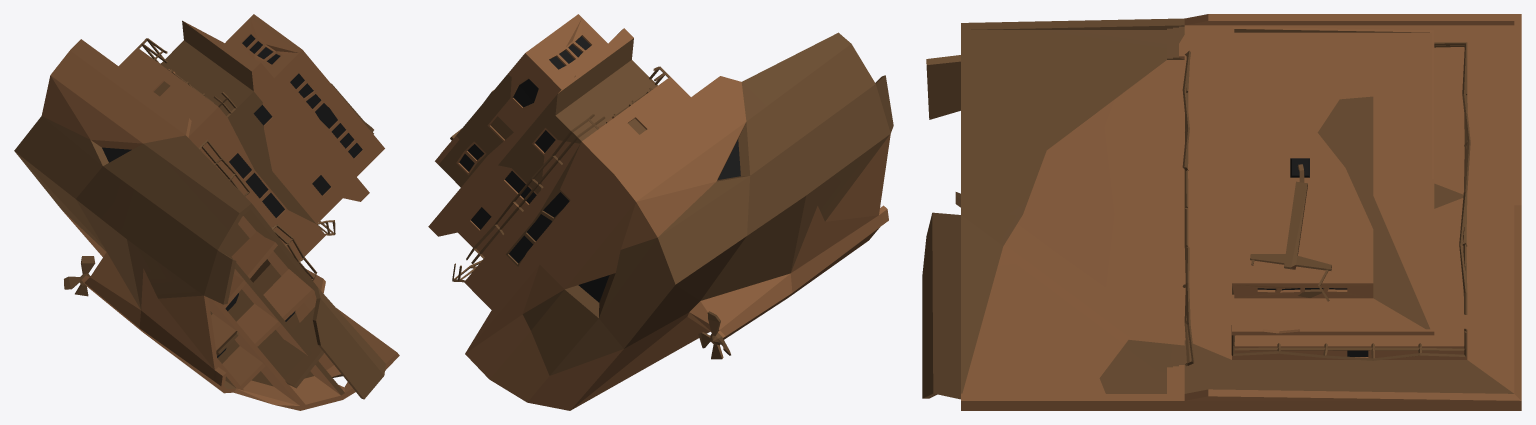
The model's file is apocalypse_ship-cargo-back-apocalypse.fbx.
The picture shows the model from 3 angles, left to right: view 1: azimuth 30°, elevation 25°; view 2: azimuth 150°, elevation 25°; view 3: azimuth 270°, elevation 25°; orthographic projection. The views are drawn at different scales.
Visible parts, largest first — view 1: apocalypse_ship_cargo_back_apocalypse; view 2: apocalypse_ship_cargo_back_apocalypse; view 3: apocalypse_ship_cargo_back_apocalypse.
Part boxes in pixels (x1=…): apocalypse_ship_cargo_back_apocalypse: x1=14, y1=14, x2=399, y2=410; apocalypse_ship_cargo_back_apocalypse: x1=428, y1=14, x2=893, y2=410; apocalypse_ship_cargo_back_apocalypse: x1=922, y1=14, x2=1521, y2=410.
Size of the model in its own units: 159 by 144 by 200.
